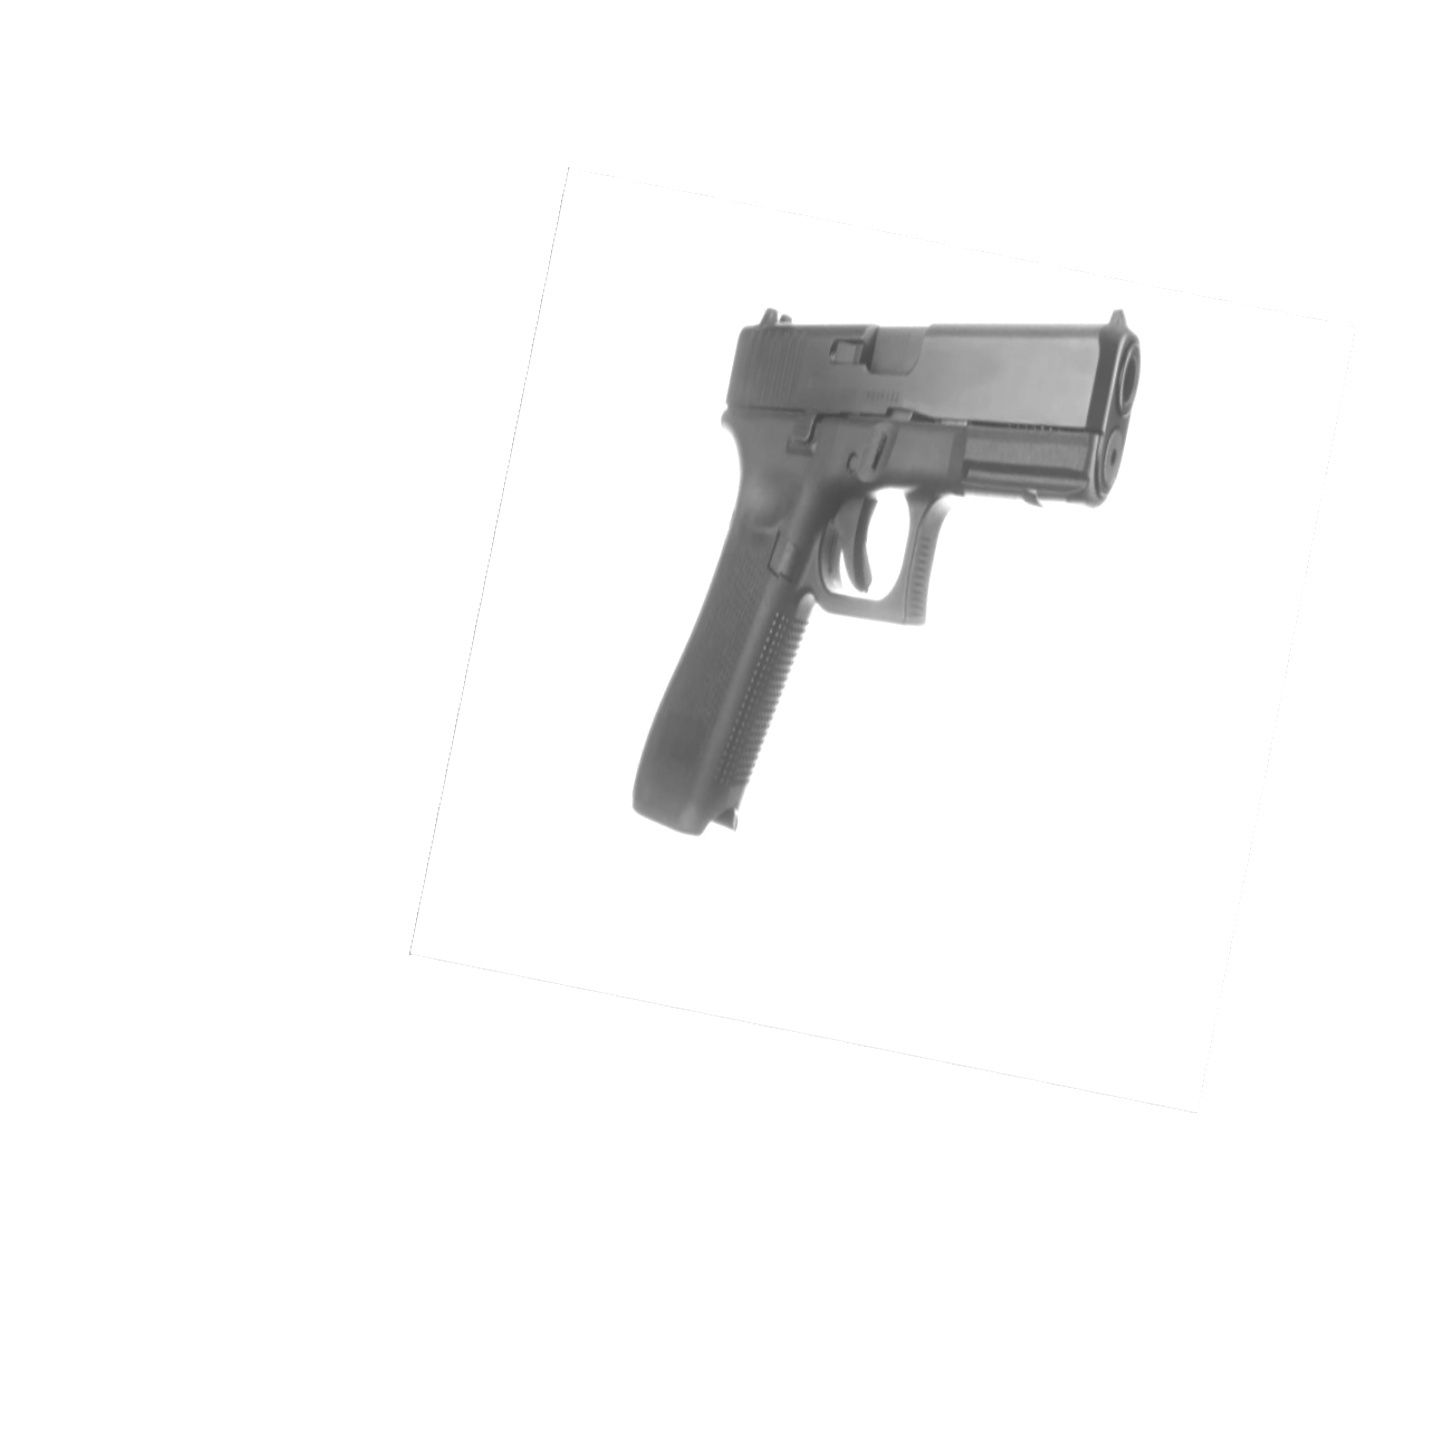gun: (626, 308, 1154, 836)
